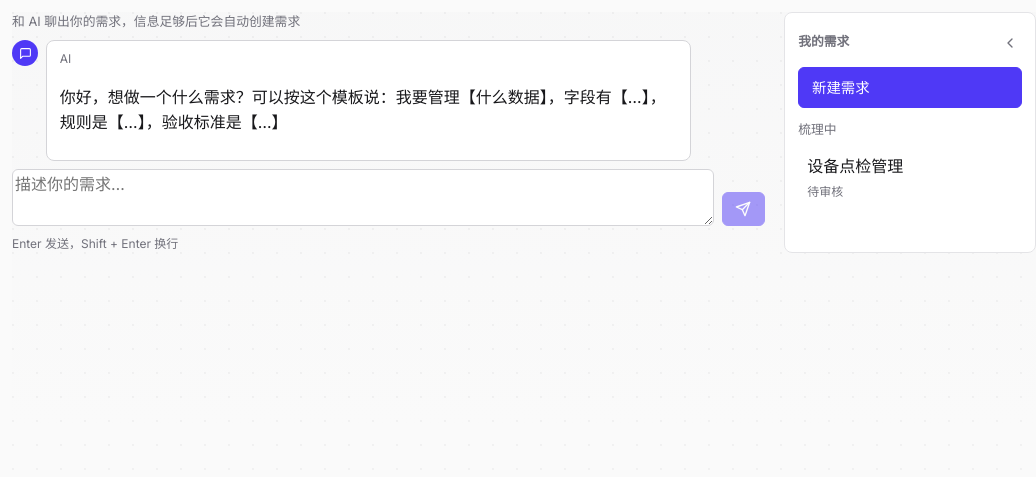
Test case: IssueWorkshopView 工坊对话（FR-ISSUE-09） › 信息足够→工具创建后出现确认卡并可推送
This screenshot has width=1036, height=477.
Type "字段有设备与结果" into the text box with test id "workshop-input" at (363, 197), box [12,169,714,226]
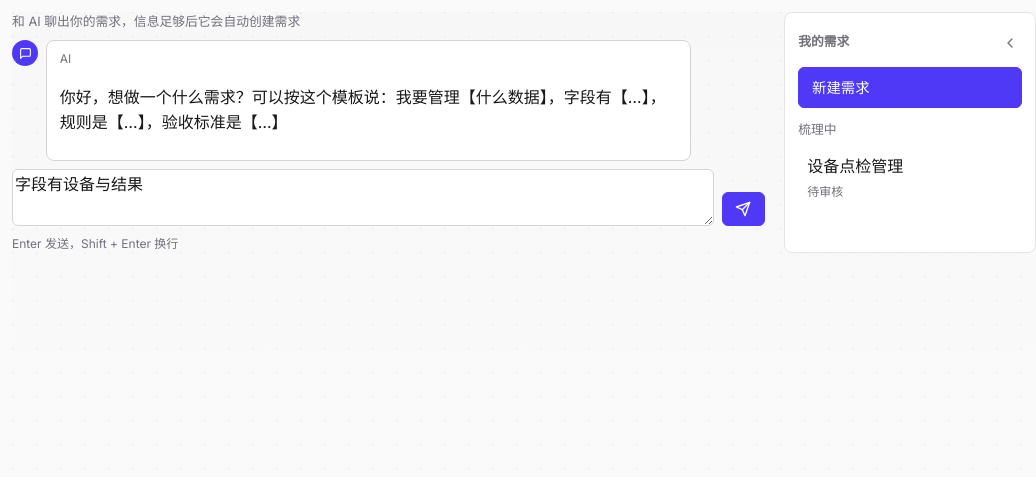
Click the button with test id "workshop-send" at (743, 209), box [722,192,765,226]
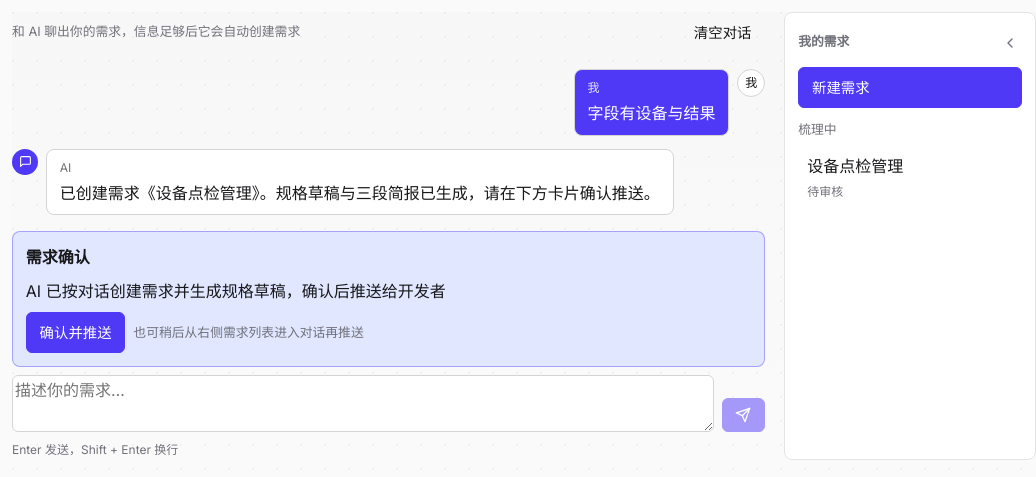
Check: the element with test id "workshop-log" shows "已创建需求", box [60,183,660,203]
Check: the element with test id "workshop-created-card" is shown, box [12,231,765,367]
Click the button with test id "workshop-publish" at (76, 333), box [26,312,125,353]
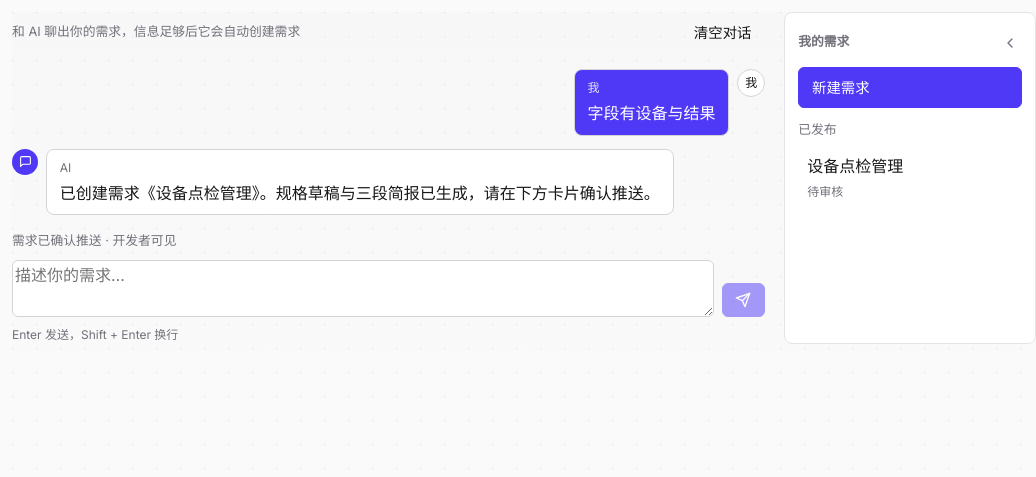
Check: the text "需求已确认推送" is shown, box [12,233,176,248]
